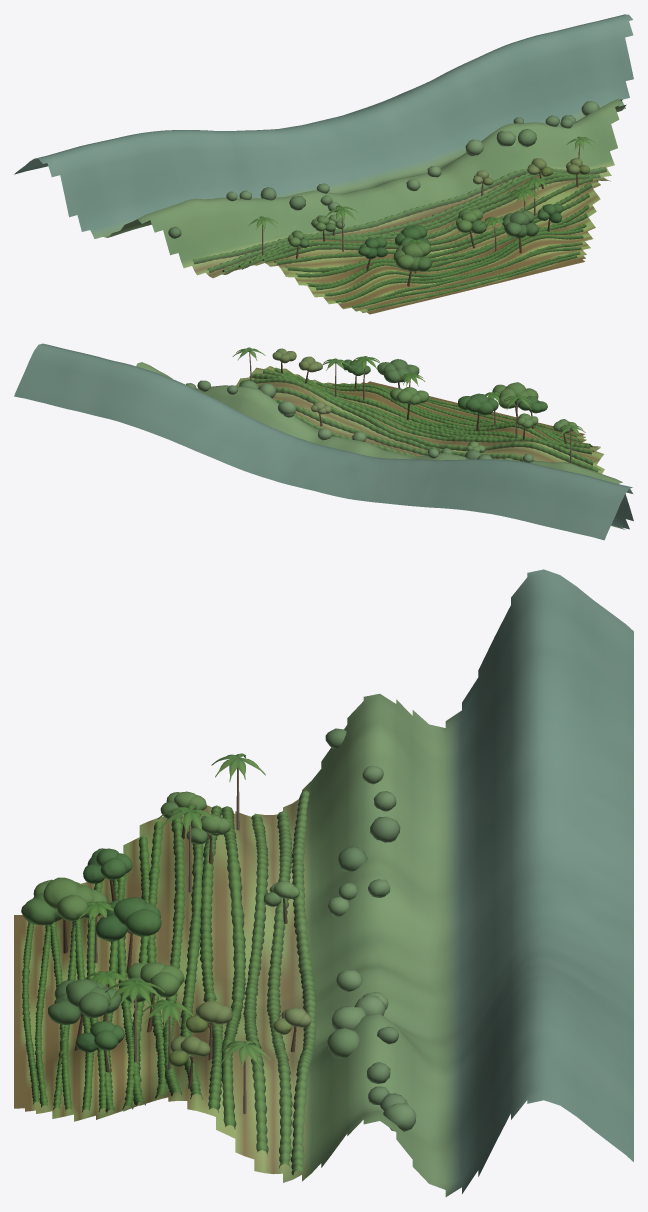
The model's file is backdrop.glb.
3 renders of one model, top to bottom at view 1: azimuth 30°, elevation 25°; view 2: azimuth 150°, elevation 25°; view 3: azimuth 270°, elevation 25°, orthographic. The views are drawn at different scales.
Parts seen in each view (by area): view 1: backdrop_land, backdrop_trees; view 2: backdrop_land, backdrop_trees; view 3: backdrop_land, backdrop_trees.
Boxes of the visible parts, bbox=[...] form: backdrop_land: bbox=[14, 14, 633, 314]; backdrop_trees: bbox=[168, 101, 599, 286]; backdrop_land: bbox=[14, 343, 633, 540]; backdrop_trees: bbox=[186, 347, 585, 463]; backdrop_land: bbox=[14, 569, 633, 1196]; backdrop_trees: bbox=[21, 728, 416, 1131].
Size of the model in its own units: 92 by 14.52 by 45.4.
